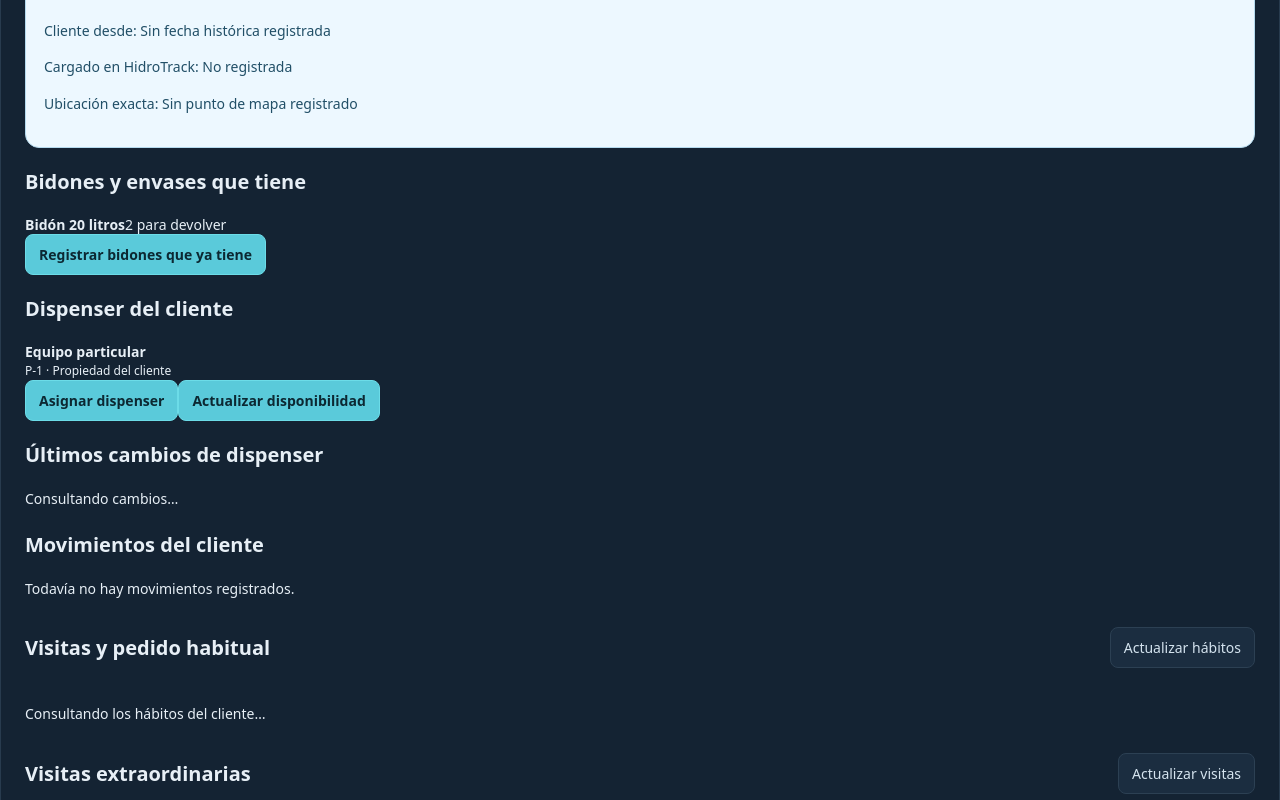
Scenario: asigna un dispenser del depósito conservando su identificación y el alquiler
The width and height of the screenshot is (1280, 800).
(page scrolled)
Expected: the text "2 para devolver" is shown, [125,215,226,234]
Step 1. Click the button "Asignar dispenser" → coordinates (102, 401), box [25,380,178,421]
(page scrolled)
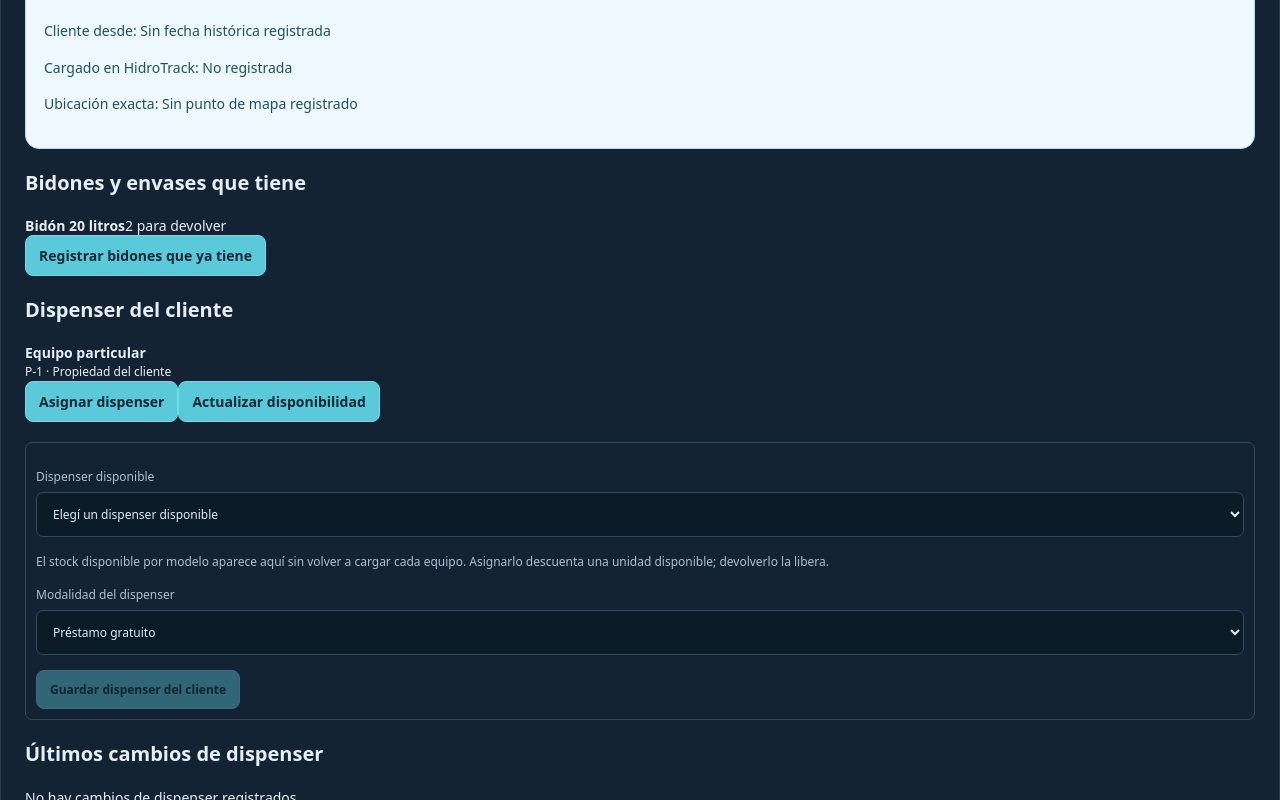
Step 2. Select "Frío calor · FC-1" in the dropdown labelled "Dispenser disponible" → coordinates (640, 514), box [36,492,1244,537]
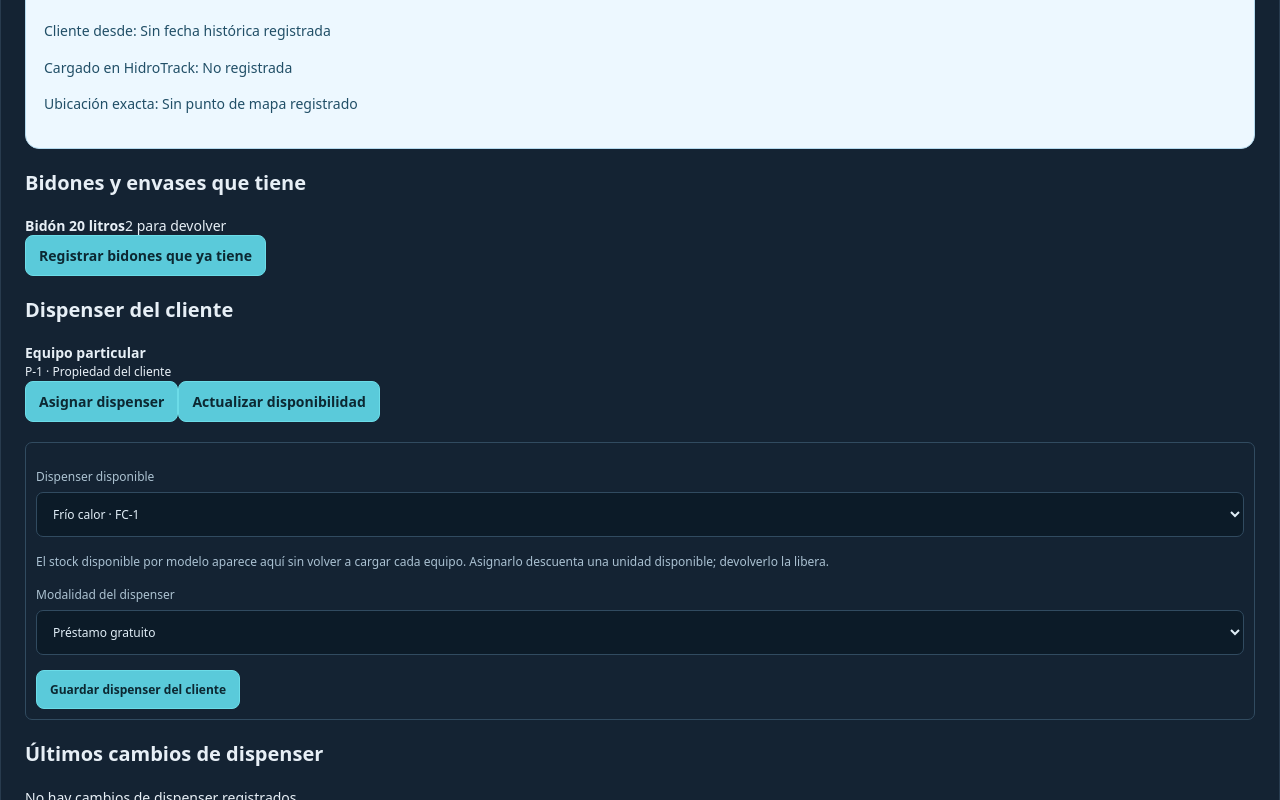
Step 3. Select "Alquiler" in the dropdown labelled "Modalidad del dispenser" → coordinates (640, 632), box [36,610,1244,655]
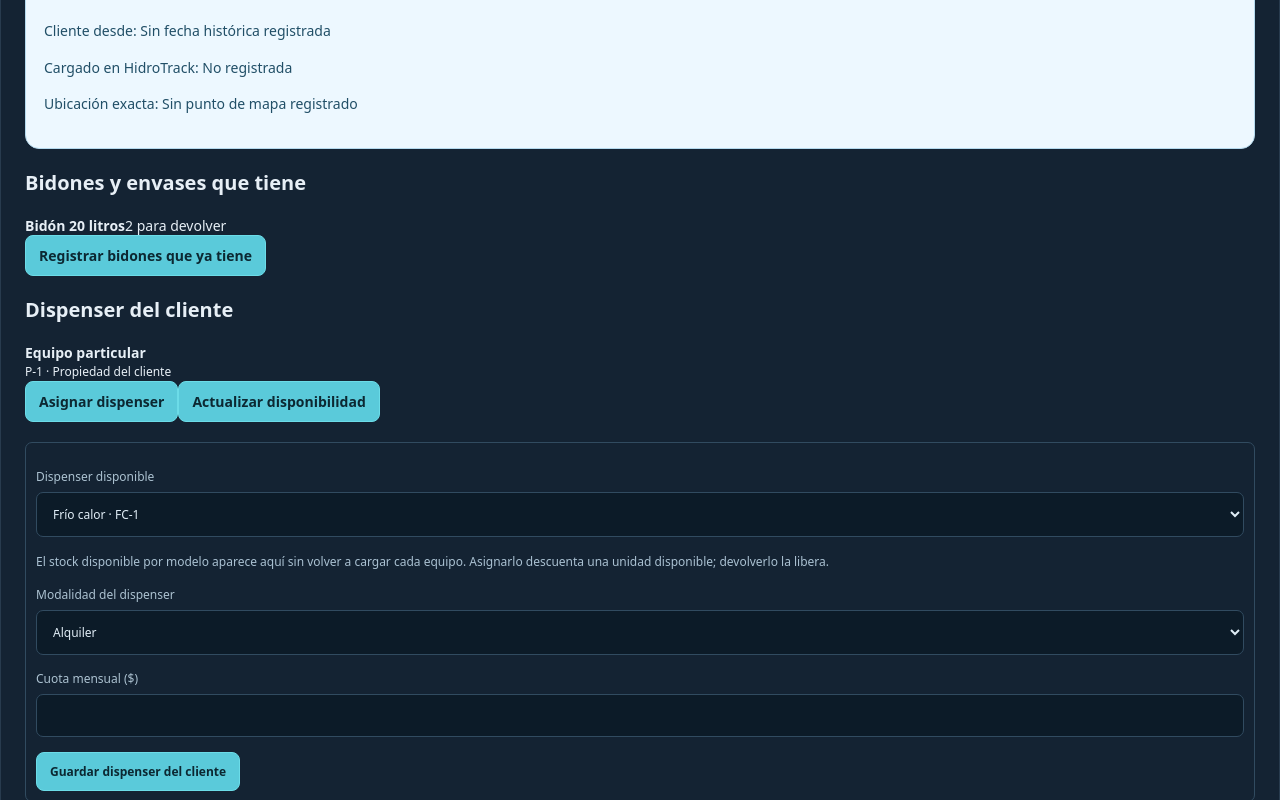
Step 4. Type "12500" into the field labelled "Cuota mensual ($)" → coordinates (640, 715), box [36,694,1244,737]
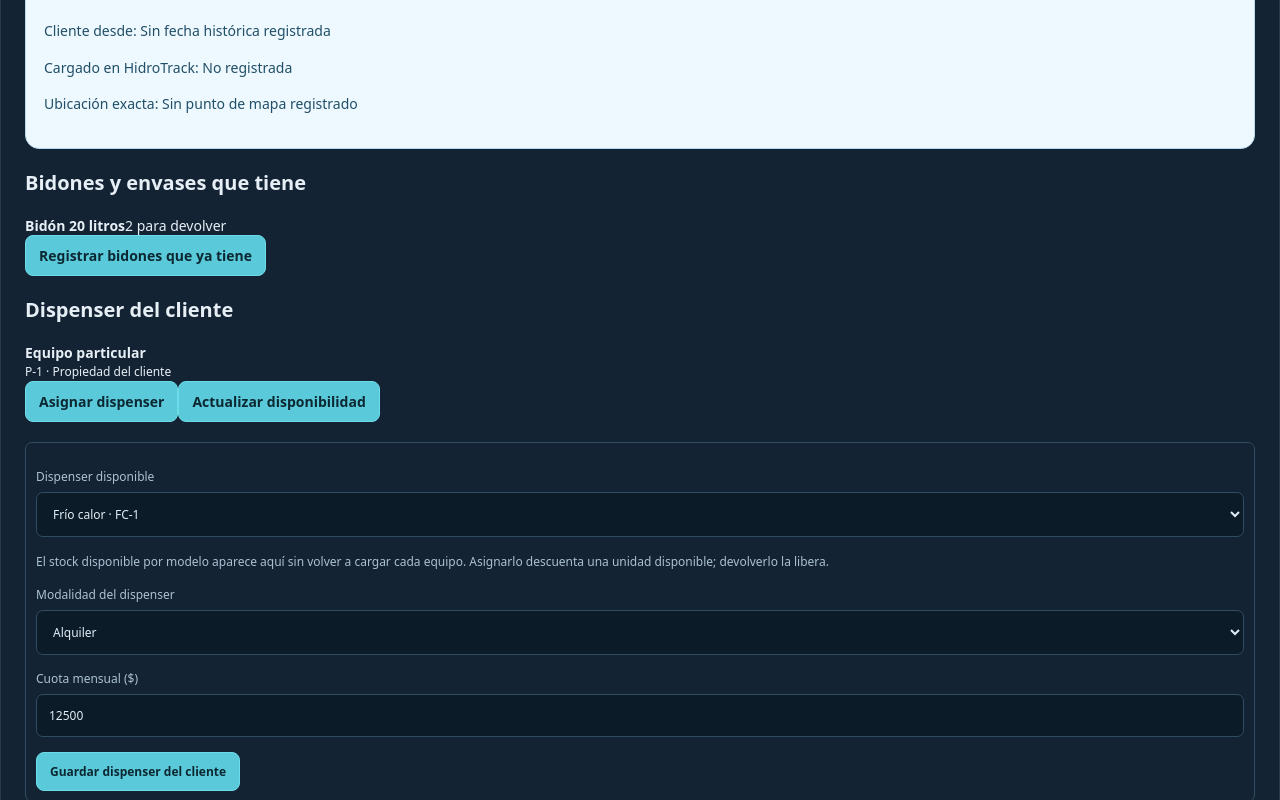
Step 5. Click the button "Guardar dispenser del cliente" → coordinates (138, 771), box [36,752,240,791]
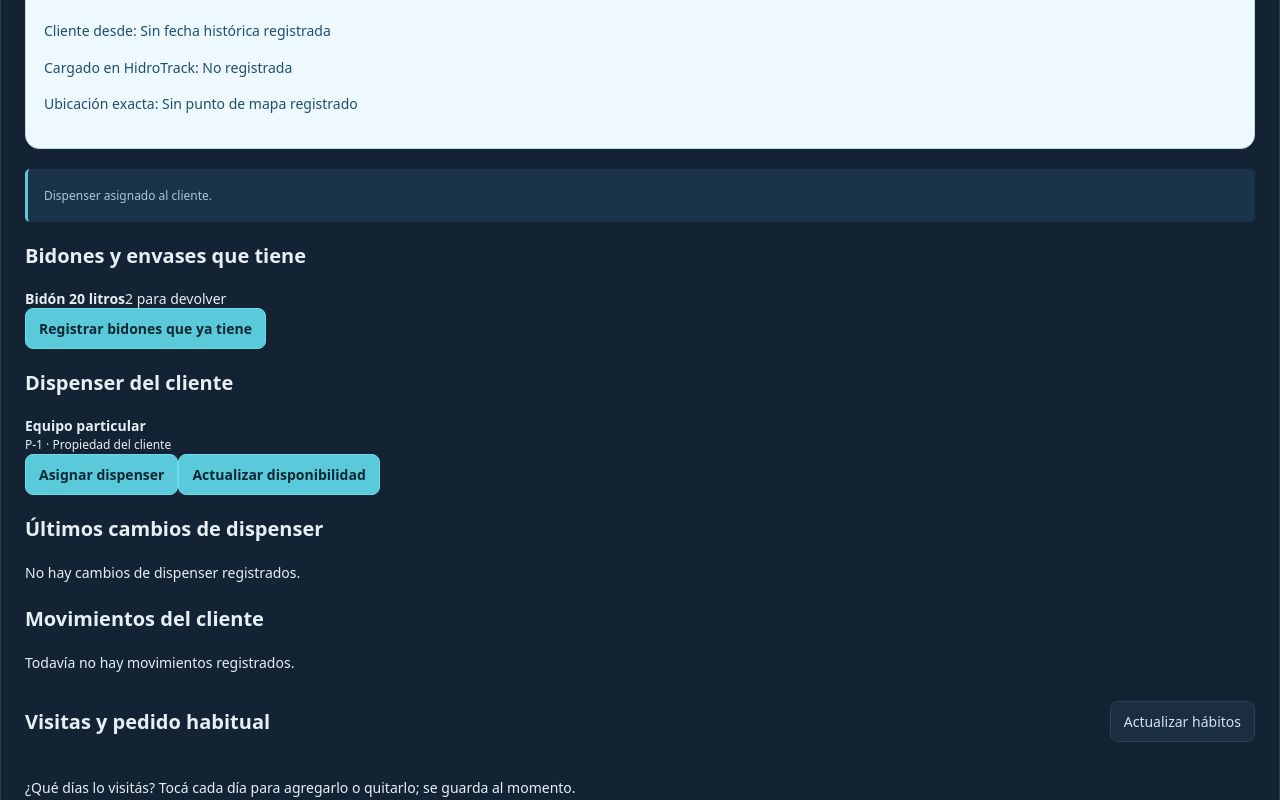
Expected: the text "Dispenser asignado al cliente." is shown, [25,168,1255,222]
